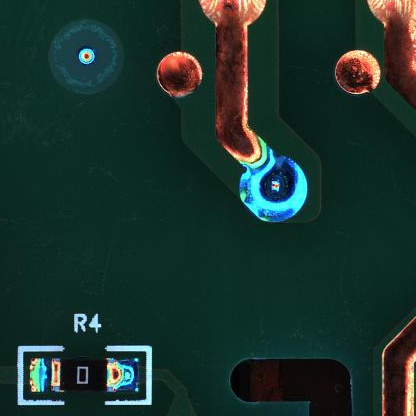spot: (239, 154, 308, 223)
